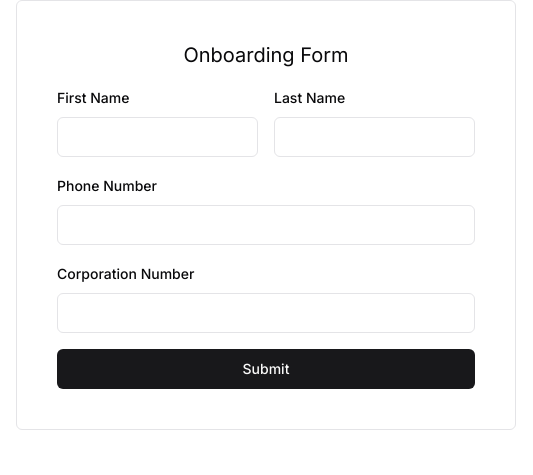
Scenario: OnboardingForm › displays error message for invalid corporation number length
The width and height of the screenshot is (533, 475).
Type "First" into the field labelled "First Name" at (158, 137), box 57,117 -> 258,157
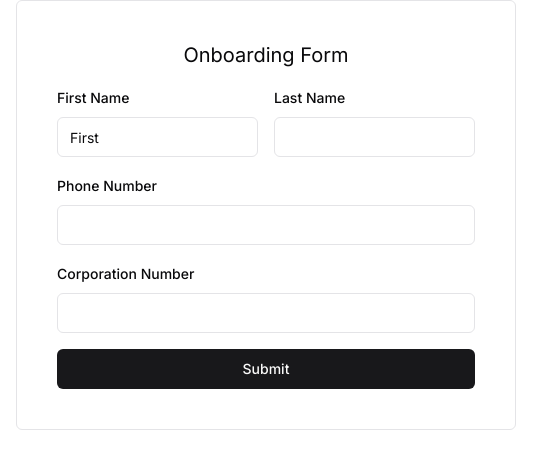
Type "Last" into the field labelled "Last Name" at (374, 137), box 274,117 -> 475,157
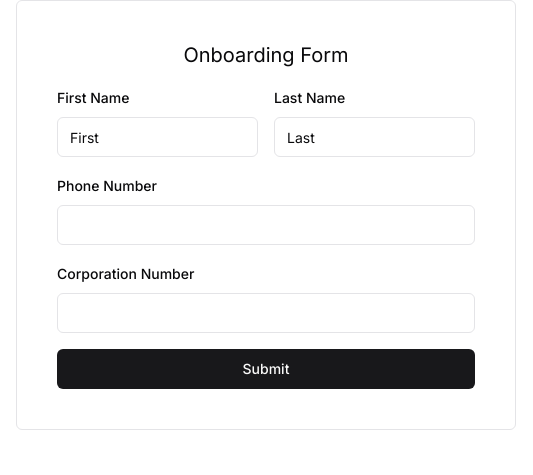
Type "+12345678901" into the field labelled "Phone Number" at (266, 225), box 57,205 -> 475,245
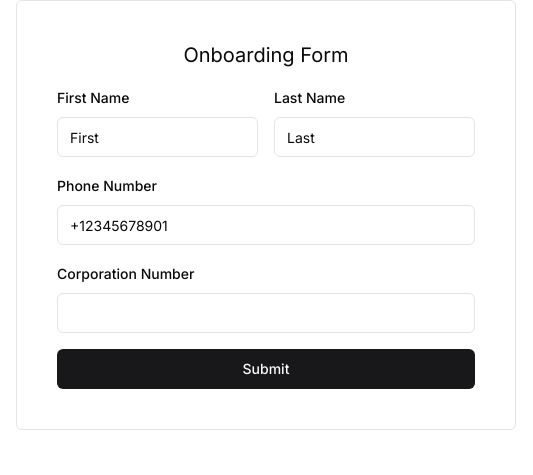
Type "12345" into the field labelled "Corporation Number" at (266, 313), box 57,293 -> 475,333
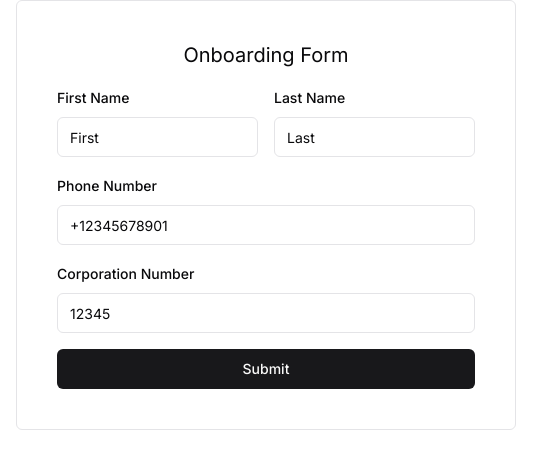
Click the button "Submit" at (266, 369), box 57,349 -> 475,389
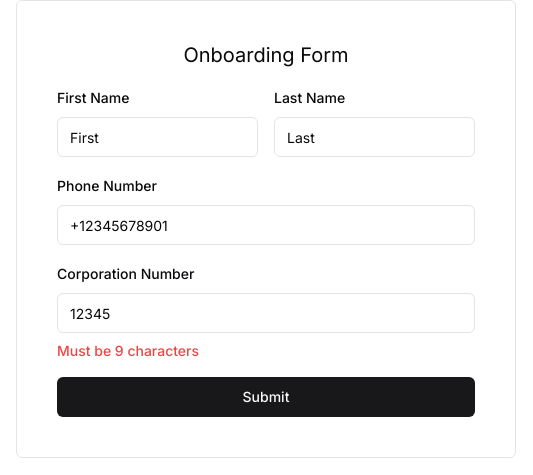
Expected: the text "Must be 9 characters" is shown, 57,342 -> 199,359
